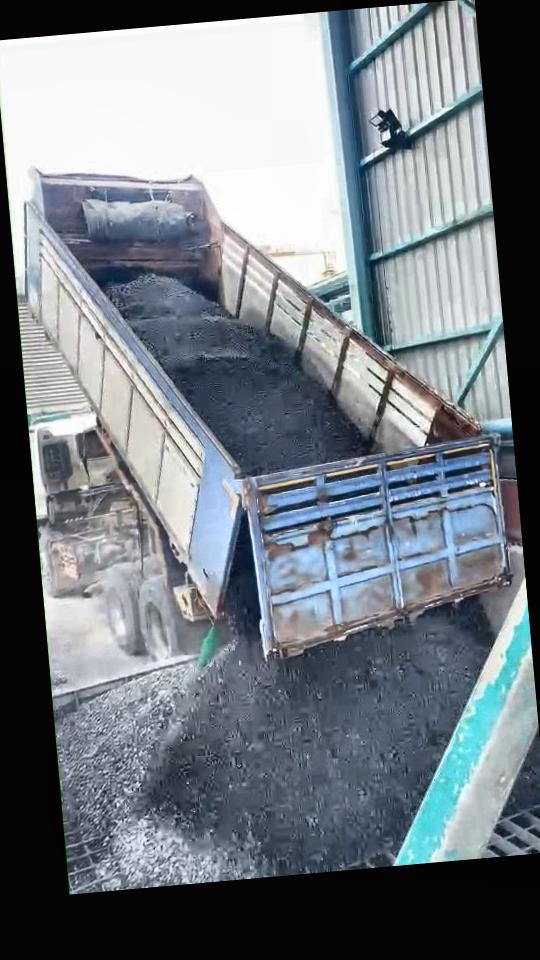gravel: (58, 608, 491, 890), (106, 275, 367, 473), (513, 744, 540, 808)
